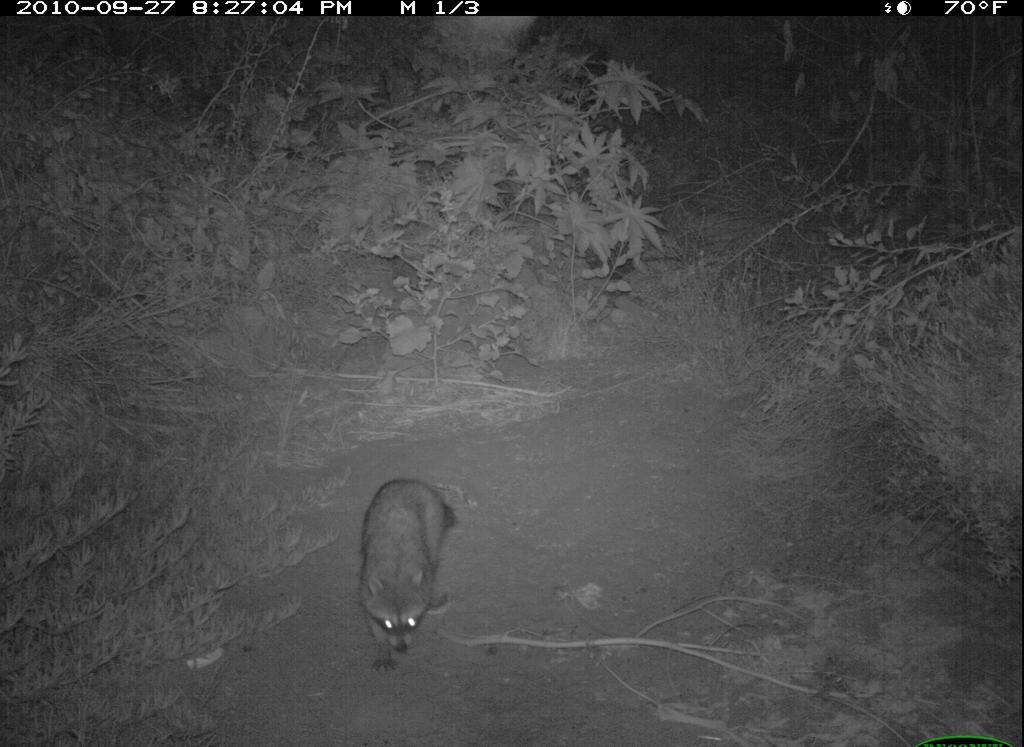raccoon: (353, 466, 479, 688)
